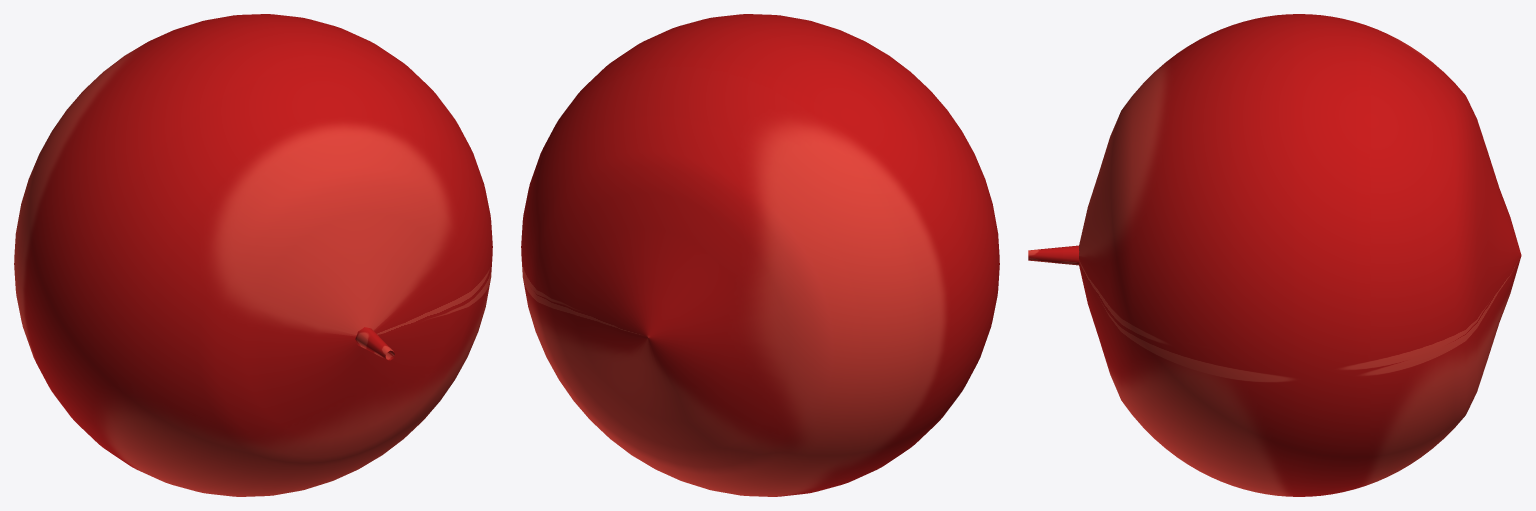
File: apple_06_v2.obj
3 views of the same model, side by side, from view 1: azimuth 30°, elevation 25°; view 2: azimuth 150°, elevation 25°; view 3: azimuth 270°, elevation 25° (orthographic).
Bounding box in the file's own units: 2 × 2 × 2.04.
1 material, 1 textured.
